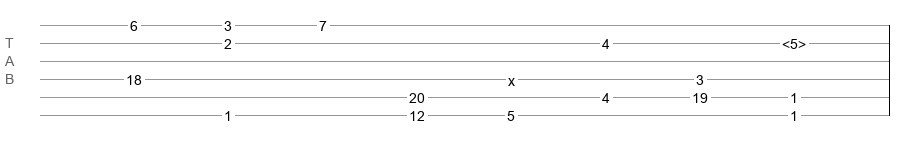1: (224, 108, 232, 118), (790, 90, 798, 100), (790, 108, 798, 118)
12: (409, 108, 425, 118)
18: (126, 72, 142, 82)
19: (692, 90, 708, 100)
2: (224, 36, 232, 46)
20: (409, 90, 425, 100)
3: (224, 18, 232, 28), (696, 72, 704, 82)
4: (602, 90, 610, 100), (602, 36, 610, 46)
5: (507, 108, 515, 118)
6: (130, 18, 138, 28)
7: (319, 18, 327, 28)
harmonic: (782, 36, 806, 46)
x: (508, 73, 515, 81)
